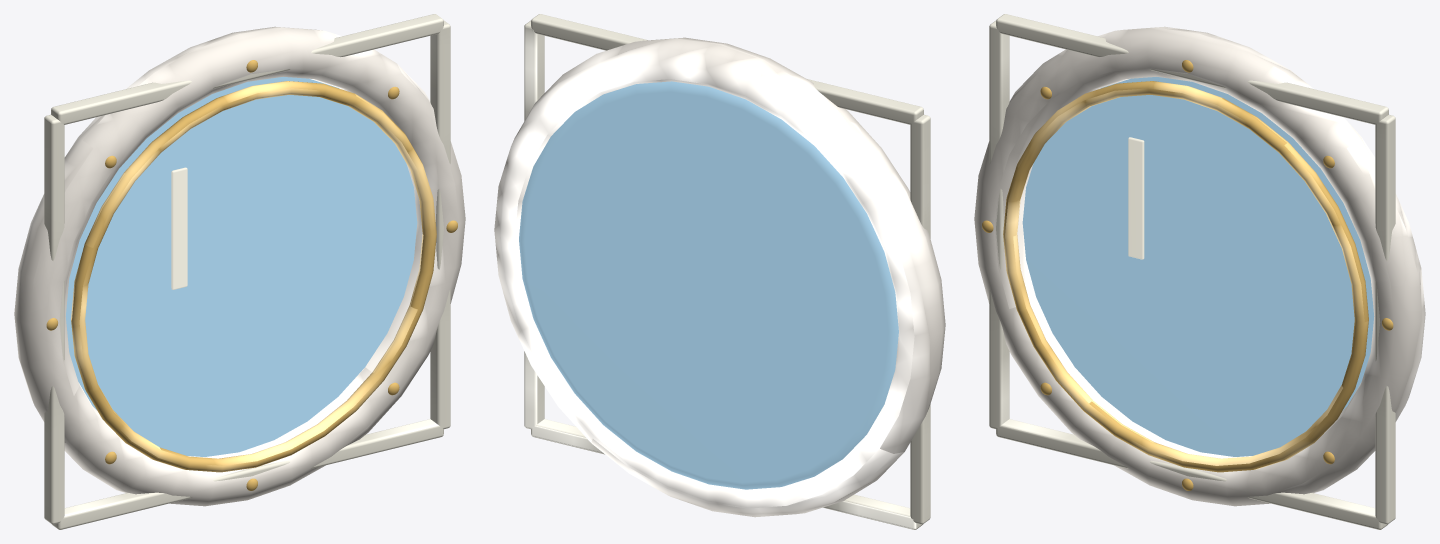
Rendered from windowRoundPorthole.glb.
3 views of the same model, side by side, from view 1: azimuth 30°, elevation 25°; view 2: azimuth 150°, elevation 25°; view 3: azimuth 330°, elevation 25° (orthographic).
Visible parts, largest first — view 1: Round sky glass, Round white window frame, Brass inner ring, Opening sash upright, Opening sash rail.001, Opening sash upright.001, Opening sash rail, Porthole reflection; view 2: Round sky glass, Round white window frame, Opening sash upright, Opening sash rail.001, Opening sash upright.001, Opening sash rail; view 3: Round sky glass, Round white window frame, Brass inner ring, Opening sash upright.001, Opening sash rail.001, Opening sash upright, Opening sash rail, Porthole reflection.
Part boxes in pixels (x1,y1,x2,y2): Round sky glass: (65,77,417,456); Round white window frame: (14,26,465,506); Brass inner ring: (71,81,436,472); Opening sash upright: (44,114,64,524); Opening sash rail.001: (51,14,443,124); Opening sash upright.001: (430,20,450,429); Opening sash rail: (52,419,443,529); Porthole reflection: (171,167,187,289); Round sky glass: (519,81,898,489); Round white window frame: (494,37,945,517); Opening sash upright: (910,114,930,524); Opening sash rail.001: (531,14,923,124); Opening sash upright.001: (524,20,544,429); Opening sash rail: (531,419,922,529); Round sky glass: (1022,77,1374,456); Round white window frame: (974,26,1425,506); Brass inner ring: (1003,81,1368,472); Opening sash upright.001: (1375,114,1395,524); Opening sash rail.001: (996,14,1388,124); Opening sash upright: (989,20,1009,429); Opening sash rail: (996,419,1387,529); Porthole reflection: (1128,137,1144,259).
Bounding box in the file's own units: 1.29 × 1.29 × 0.1546.
